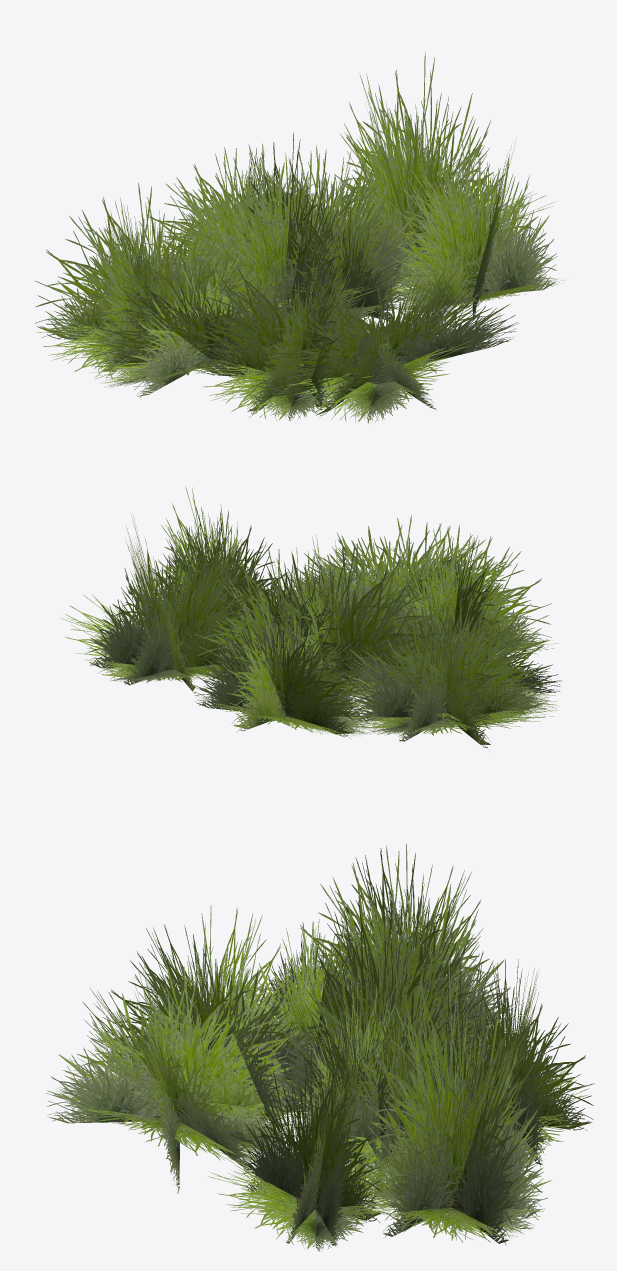
Rendered from Grass Patch Large.fbx.
3 renders of one model, top to bottom at view 1: azimuth 30°, elevation 25°; view 2: azimuth 150°, elevation 25°; view 3: azimuth 270°, elevation 25°, orthographic. The views are drawn at different scales.
Parts seen in each view (by area): view 1: Large_Grass_Patch; view 2: Large_Grass_Patch; view 3: Large_Grass_Patch.
Part boxes in pixels (x1,y1,x2,y2): Large_Grass_Patch: (35,52,566,423); Large_Grass_Patch: (59,485,562,748); Large_Grass_Patch: (45,844,594,1251).
Bounding box in the file's own units: 160 × 51.93 × 111.
